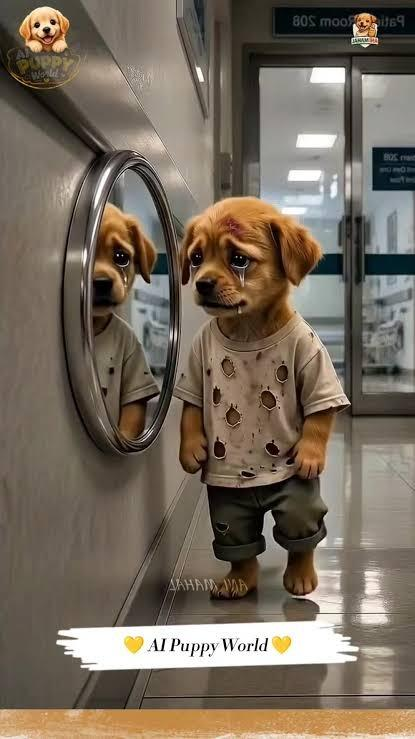puppy-dog: (174, 195, 350, 600), (90, 201, 158, 441), (17, 6, 73, 56), (352, 13, 378, 39)
